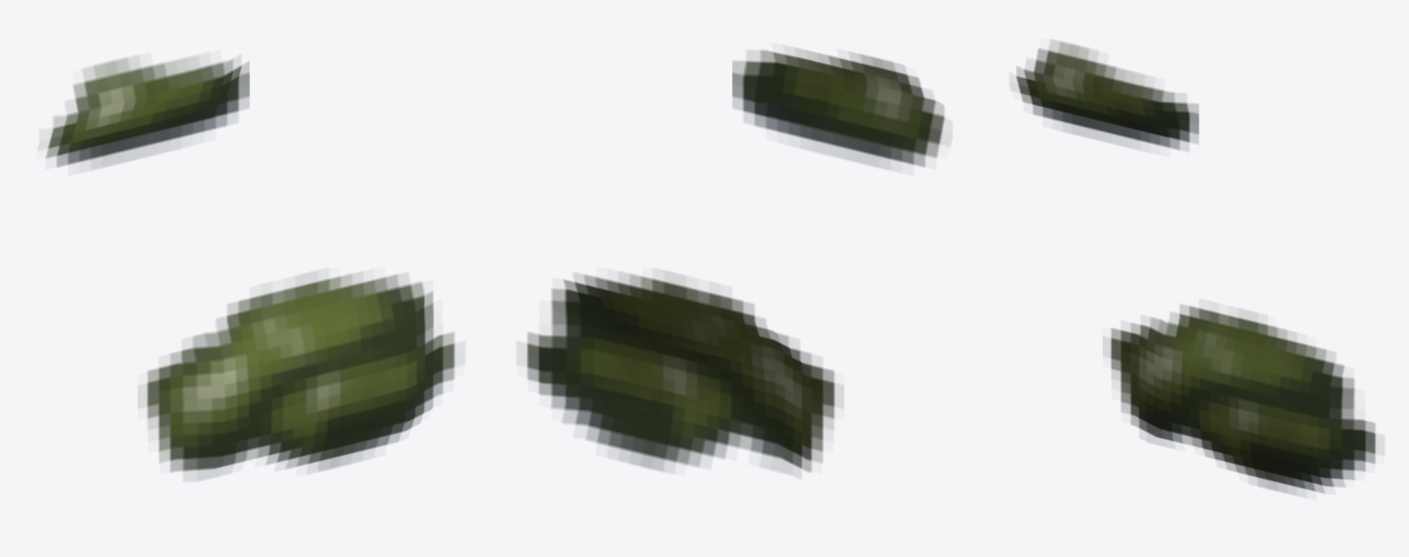
The model's file is Mousse3.glb.
3 renders of one model, left to right at view 1: azimuth 30°, elevation 25°; view 2: azimuth 150°, elevation 25°; view 3: azimuth 330°, elevation 25°, orthographic. The views are drawn at different scales.
Visible parts, largest first — view 1: Mousse3; view 2: Mousse3; view 3: Mousse3.
Boxes of the visible parts, left/top/right/bottom form: Mousse3: left=46, top=56, right=455, bottom=479; Mousse3: left=526, top=48, right=944, bottom=473; Mousse3: left=1016, top=40, right=1375, bottom=494.
Bounding box in the file's own units: 1.27 × 1.32 × 0.0517.
Materials: 1 (1 with a texture image).
